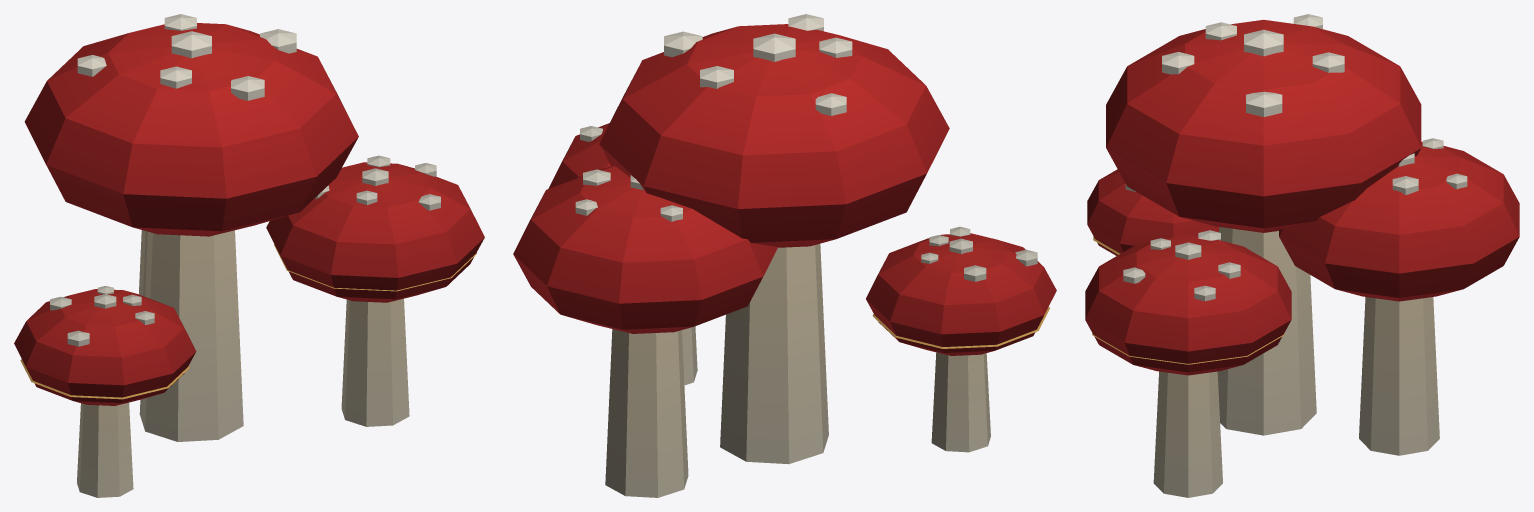
Rendered from toadstool_cluster.glb.
The picture shows the model from 3 angles, left to right: view 1: azimuth 30°, elevation 25°; view 2: azimuth 150°, elevation 25°; view 3: azimuth 270°, elevation 25°; orthographic projection. The views are drawn at different scales.
Parts seen in each view (by area): view 1: toadstool_cluster; view 2: toadstool_cluster; view 3: toadstool_cluster.
Part boxes in pixels (<box>): toadstool_cluster: <box>14,14,484,497</box>; toadstool_cluster: <box>513,14,1056,497</box>; toadstool_cluster: <box>1085,14,1519,497</box>.
Bounding box in the file's own units: 1.71 × 1.39 × 1.44.
